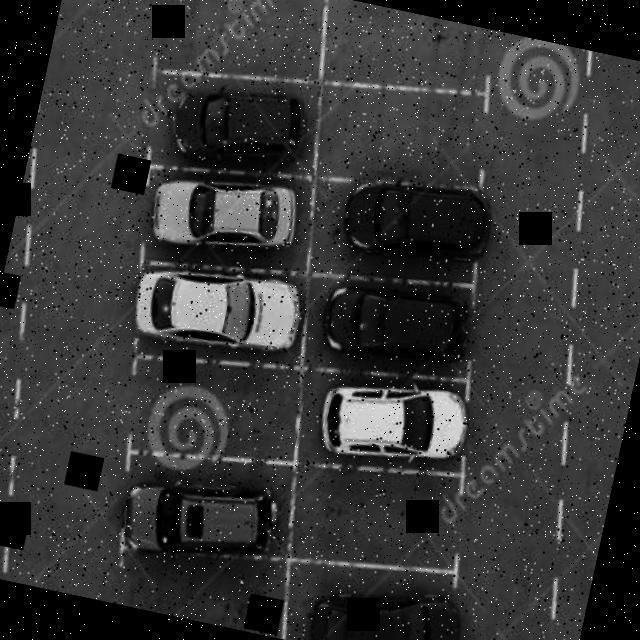car: (304, 154, 508, 298), (114, 242, 314, 380), (292, 350, 482, 488), (103, 441, 291, 578), (132, 152, 316, 291), (302, 258, 484, 392), (147, 56, 320, 186), (285, 546, 476, 640)
free: (113, 342, 304, 478), (302, 72, 492, 208), (286, 449, 462, 578), (312, 0, 500, 112), (117, 528, 290, 638), (145, 0, 330, 94)
